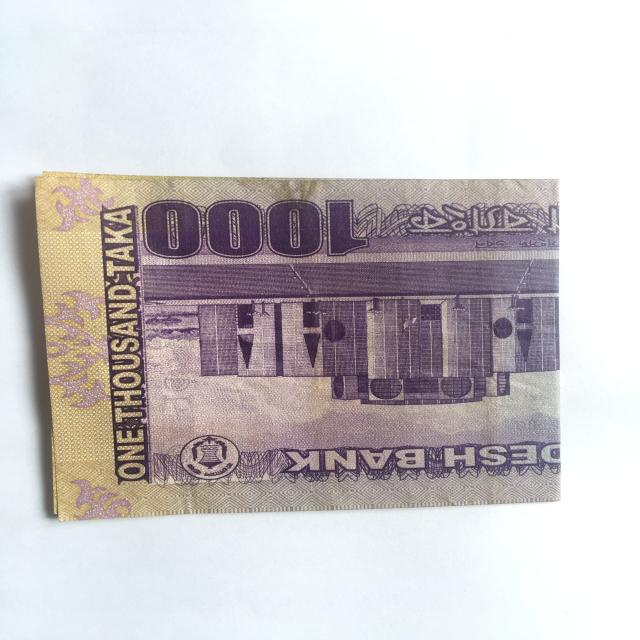Taka: (31, 161, 563, 515)
